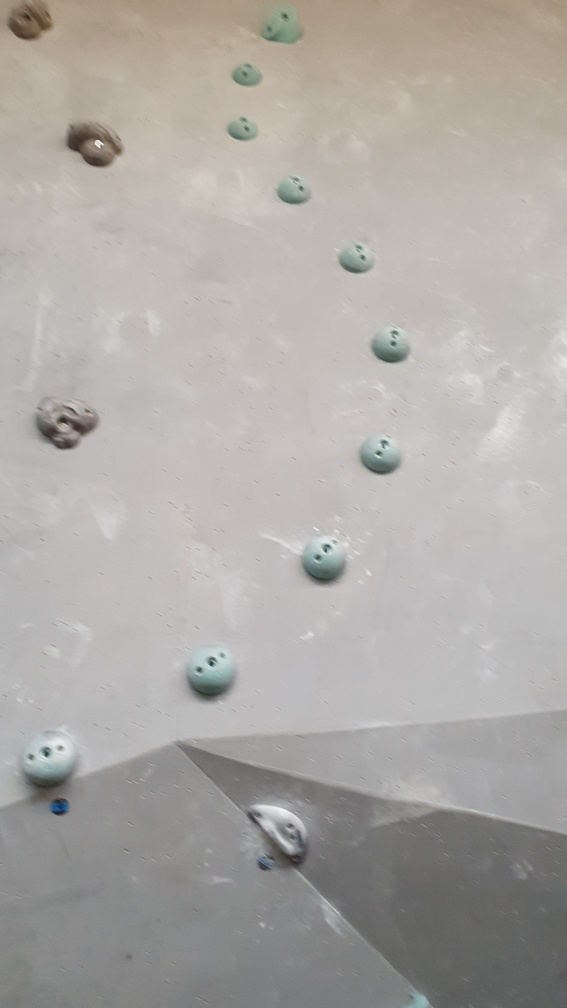Hand Start: (45, 795, 75, 819), (256, 849, 281, 873)
Jug: (59, 116, 130, 175), (31, 393, 101, 450)
Sloper: (23, 727, 84, 791), (185, 640, 244, 697), (297, 531, 352, 585), (367, 322, 417, 372), (360, 430, 403, 476), (274, 168, 314, 210), (224, 111, 264, 148), (338, 238, 379, 274), (229, 59, 262, 86)
